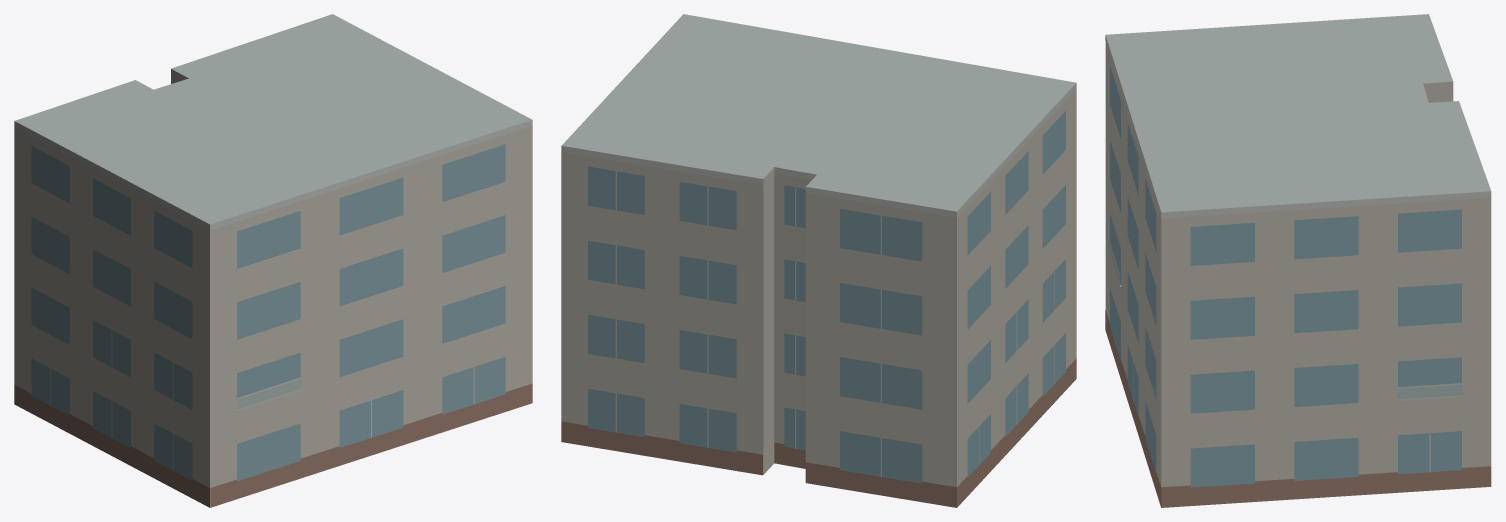
The model's file is survey-upis-32577178.glb.
3 renders of one model, left to right at view 1: azimuth 30°, elevation 25°; view 2: azimuth 150°, elevation 25°; view 3: azimuth 270°, elevation 25°, orthographic. The views are drawn at different scales.
Visible parts, largest first — view 1: survey-upis-32577178.tmp; view 2: survey-upis-32577178.tmp; view 3: survey-upis-32577178.tmp.
Part boxes in pixels (x1,y1,x2,y2): survey-upis-32577178.tmp: [14, 14, 532, 507]; survey-upis-32577178.tmp: [561, 14, 1076, 507]; survey-upis-32577178.tmp: [1105, 14, 1491, 507].
Bounding box in the file's own units: 16.86 × 11.7 × 13.86.
